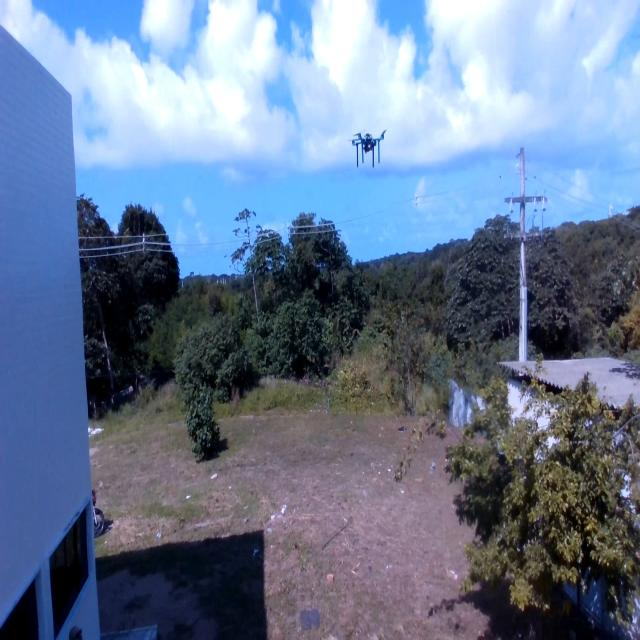-uav-: (342, 123, 388, 175)
